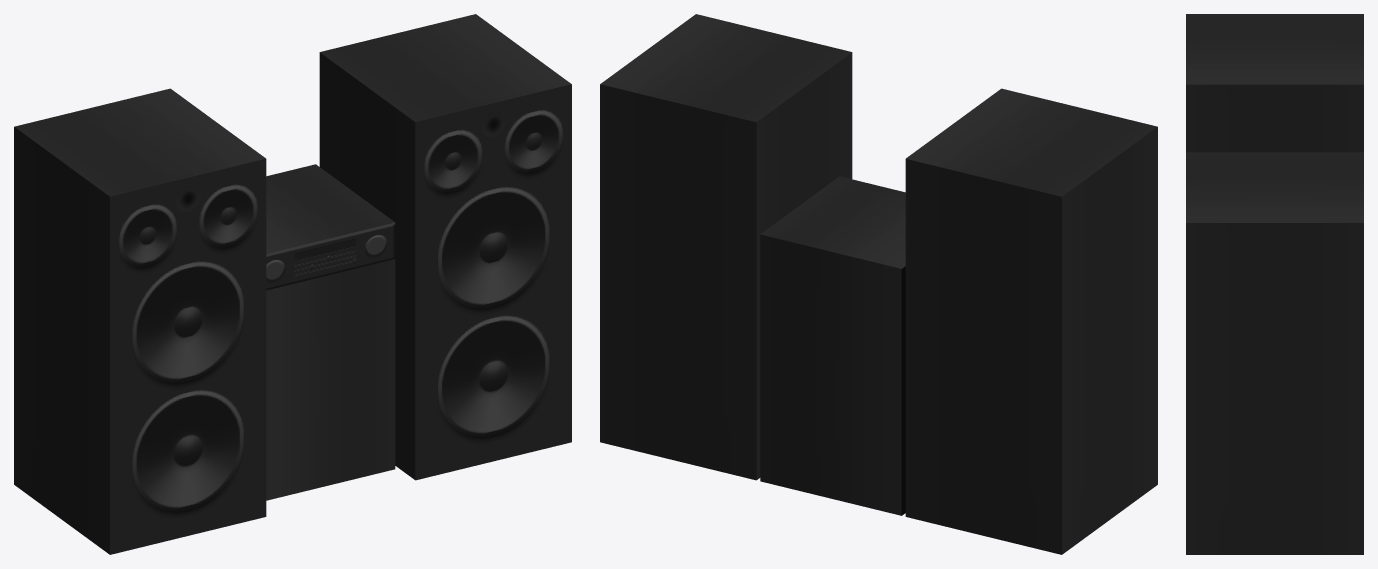
Rendered from InteriorItem_006.fbx.
The picture shows the model from 3 angles, left to right: view 1: azimuth 30°, elevation 25°; view 2: azimuth 150°, elevation 25°; view 3: azimuth 270°, elevation 25°; orthographic projection. The views are drawn at different scales.
Visible parts, largest first — view 1: InteriorItem_006; view 2: InteriorItem_006; view 3: InteriorItem_006.
Boxes of the visible parts, x1,y1,x2,y2 form: InteriorItem_006: (14,14,571,554); InteriorItem_006: (600,14,1157,554); InteriorItem_006: (1186,14,1363,554).
Bounding box in the file's own units: 97.85 × 72.51 × 35.2.
